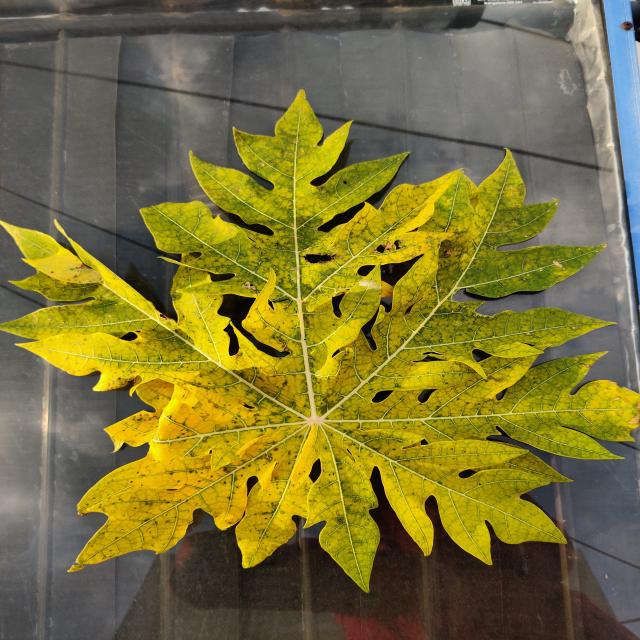papaya: (3, 92, 638, 590)
